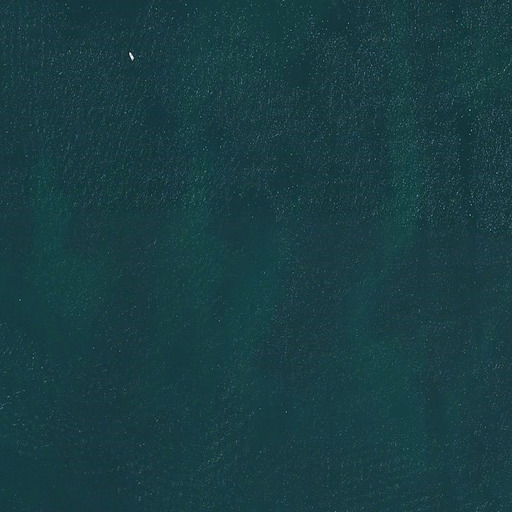ship: (126, 49, 136, 62)
